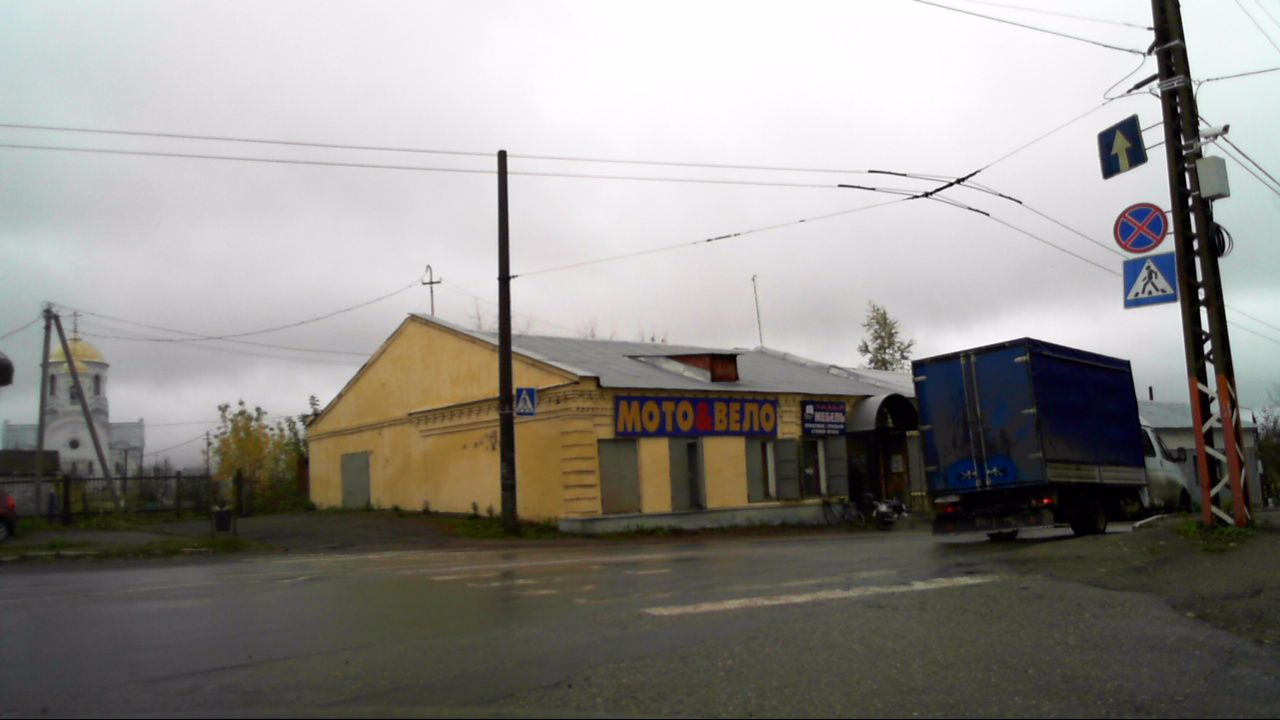No Parking: (1112, 201, 1168, 253)
